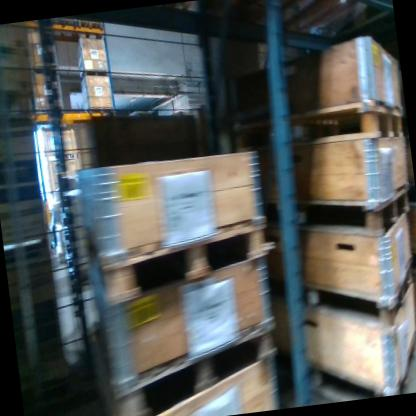pallet: (98, 316, 286, 416), (82, 207, 272, 299), (300, 257, 416, 334), (308, 327, 416, 404), (295, 178, 415, 245), (284, 93, 407, 153), (0, 77, 36, 117), (77, 16, 105, 42), (51, 15, 79, 39), (84, 104, 116, 121), (79, 65, 110, 81), (409, 248, 416, 277)
